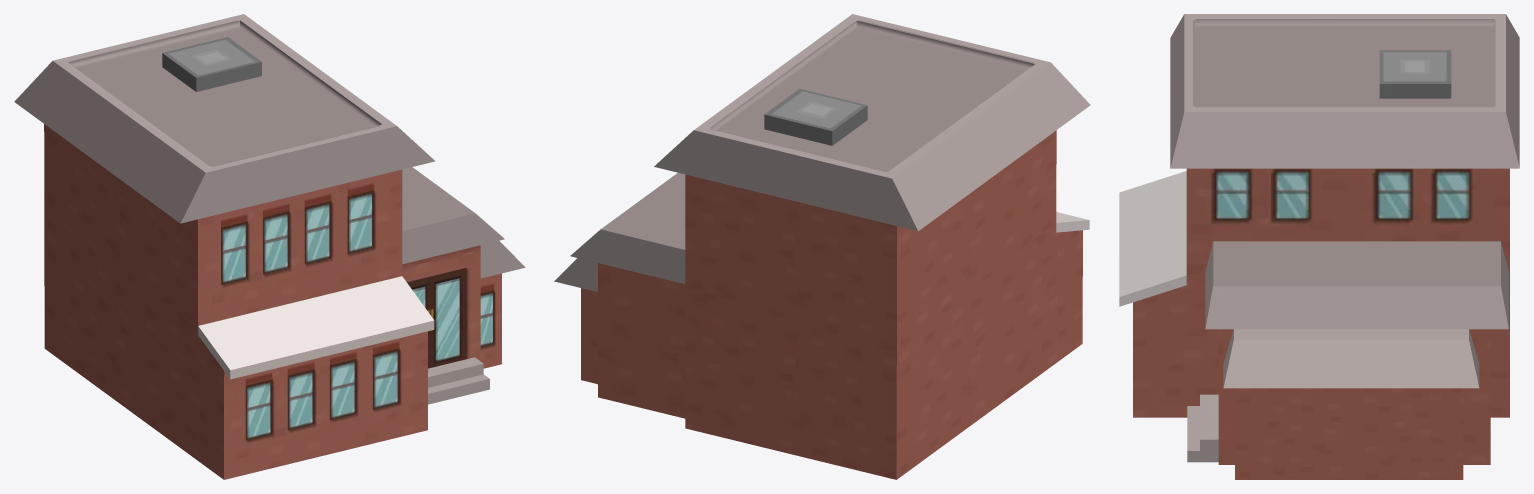
The model's file is city_residential_03.glb.
3 views of the same model, side by side, from view 1: azimuth 30°, elevation 25°; view 2: azimuth 150°, elevation 25°; view 3: azimuth 270°, elevation 25° (orthographic). The views are drawn at different scales.
Parts seen in each view (by area): view 1: house03:polySurface54; view 2: house03:polySurface54; view 3: house03:polySurface54.
Part boxes in pixels (x1,y1,x2,y2): house03:polySurface54: (14, 14, 525, 479); house03:polySurface54: (554, 14, 1090, 479); house03:polySurface54: (1119, 14, 1519, 479).
Bounding box in the file's own units: 10.23 × 7.76 × 9.12.
Materials: 1 (1 with a texture image).
